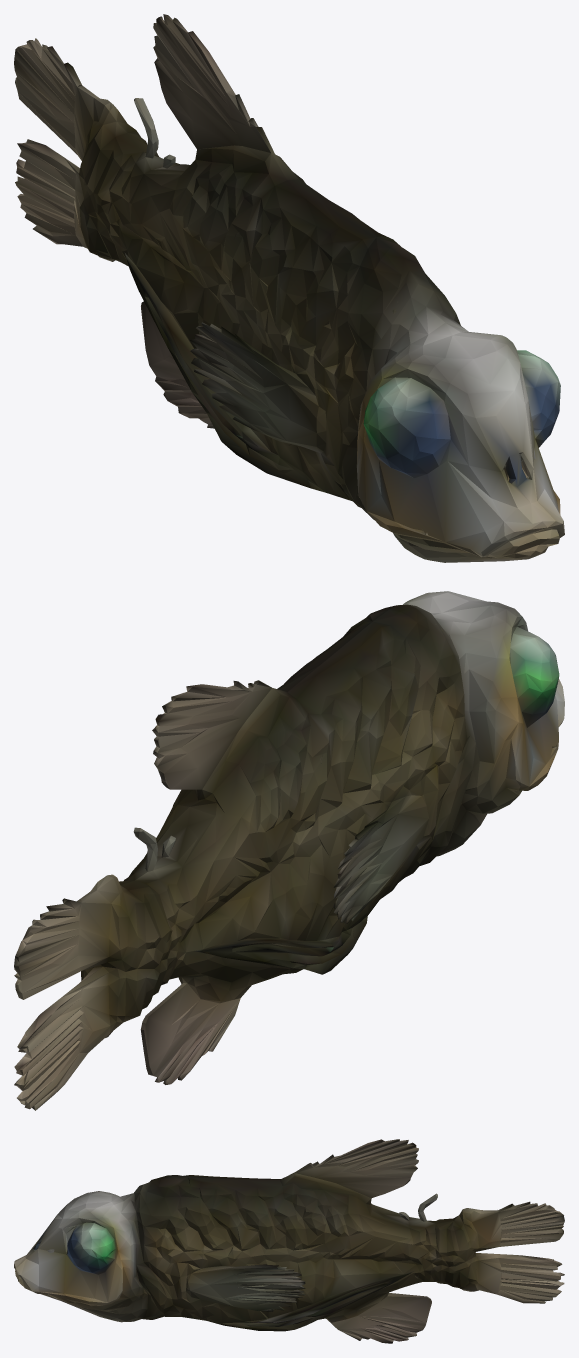
Rendered from barreleye.glb.
The picture shows the model from 3 angles, top to bottom: view 1: azimuth 30°, elevation 25°; view 2: azimuth 150°, elevation 25°; view 3: azimuth 270°, elevation 25°; orthographic projection. The views are drawn at different scales.
Parts seen in each view (by area): view 1: geometry_0; view 2: geometry_0; view 3: geometry_0.
Boxes of the visible parts, <box> form: geometry_0: <box>14,14,564,562</box>; geometry_0: <box>14,591,564,1110</box>; geometry_0: <box>14,1139,564,1343</box>.
Size of the model in its own units: 0.2045 by 0.4096 by 1.
